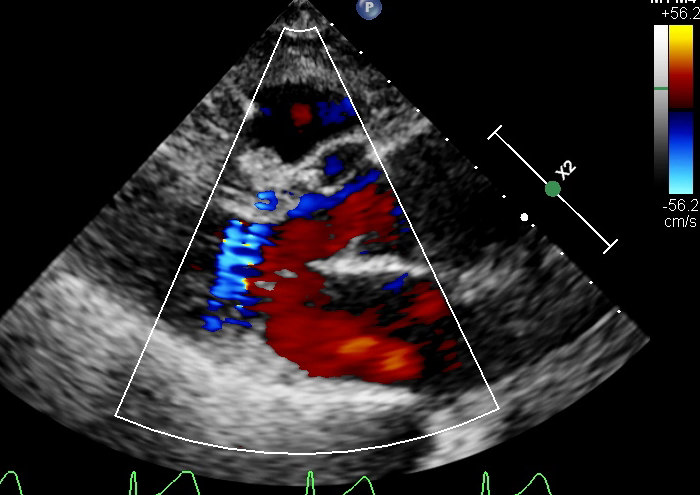AR: (239, 200, 392, 284)
